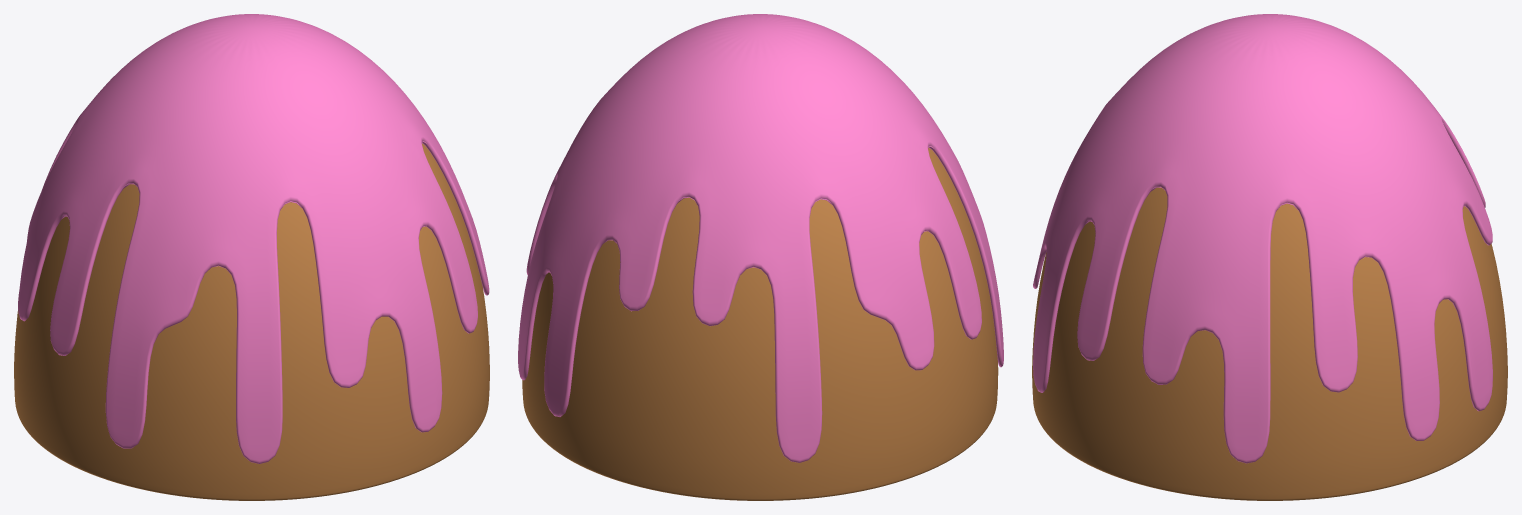
The model's file is hill1.fbx.
The picture shows the model from 3 angles, left to right: view 1: azimuth 30°, elevation 25°; view 2: azimuth 150°, elevation 25°; view 3: azimuth 270°, elevation 25°; orthographic projection.
Parts seen in each view (by area): view 1: Sphere.002; view 2: Sphere.002; view 3: Sphere.002.
Part boxes in pixels (x1=…): Sphere.002: x1=14, y1=14, x2=489, y2=500; Sphere.002: x1=518, y1=14, x2=1003, y2=500; Sphere.002: x1=1032, y1=14, x2=1507, y2=500.
Bounding box in the file's own units: 2648 × 2271 × 2621.
